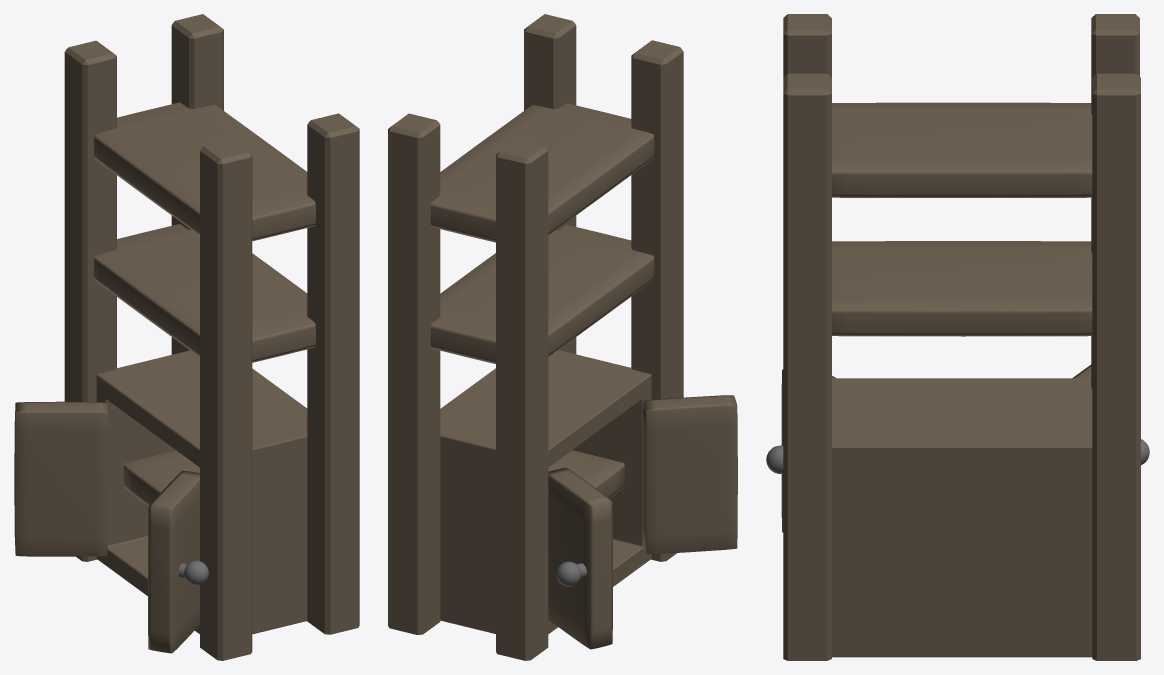
Rendered from shelves01.fbx.
3 renders of one model, left to right at view 1: azimuth 30°, elevation 25°; view 2: azimuth 150°, elevation 25°; view 3: azimuth 270°, elevation 25°, orthographic. The views are drawn at different scales.
Visible parts, largest first — view 1: shelves01; view 2: shelves01; view 3: shelves01.
Boxes of the visible parts, bbox=[...] form: shelves01: bbox=[14, 14, 359, 660]; shelves01: bbox=[388, 14, 737, 660]; shelves01: bbox=[766, 14, 1149, 660].
Bounding box in the file's own units: 147 × 339 × 207.
